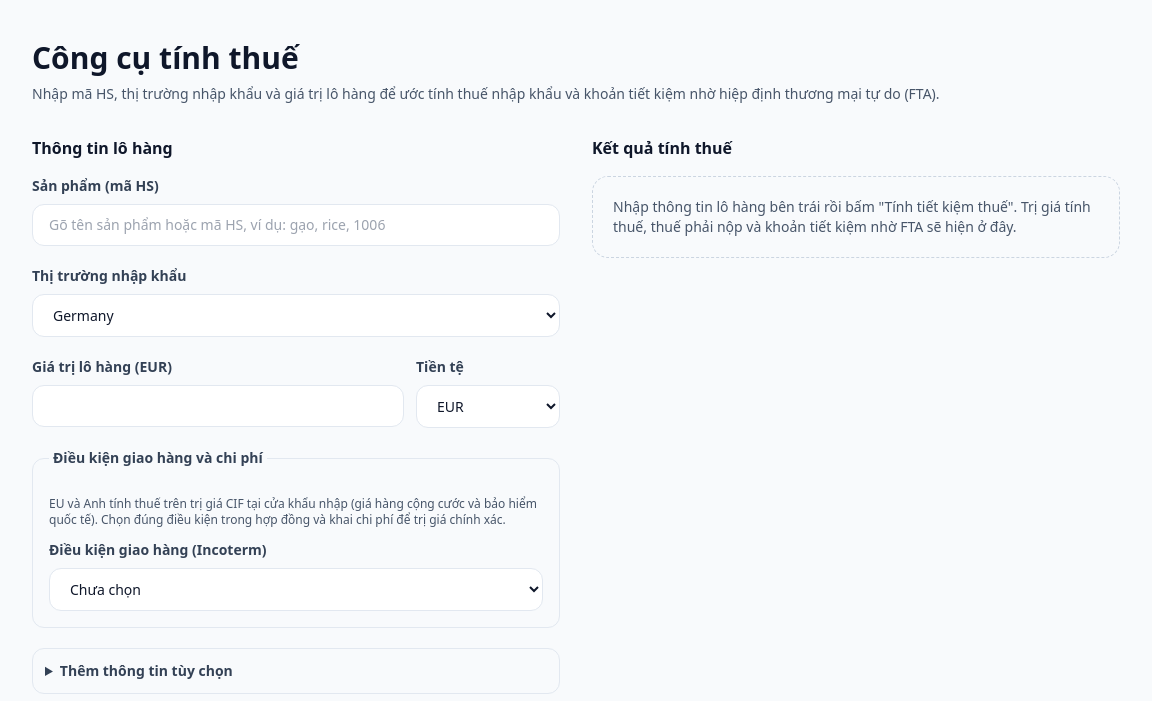
Máy tính tiết kiệm thuế (C2) › không chọn mã HS thì báo lỗi và không gọi server
The width and height of the screenshot is (1152, 701).
Type "10000" into the field labelled "Giá trị lô hàng (EUR)". click: (218, 406)
box: [32, 385, 404, 427]
(page scrolled)
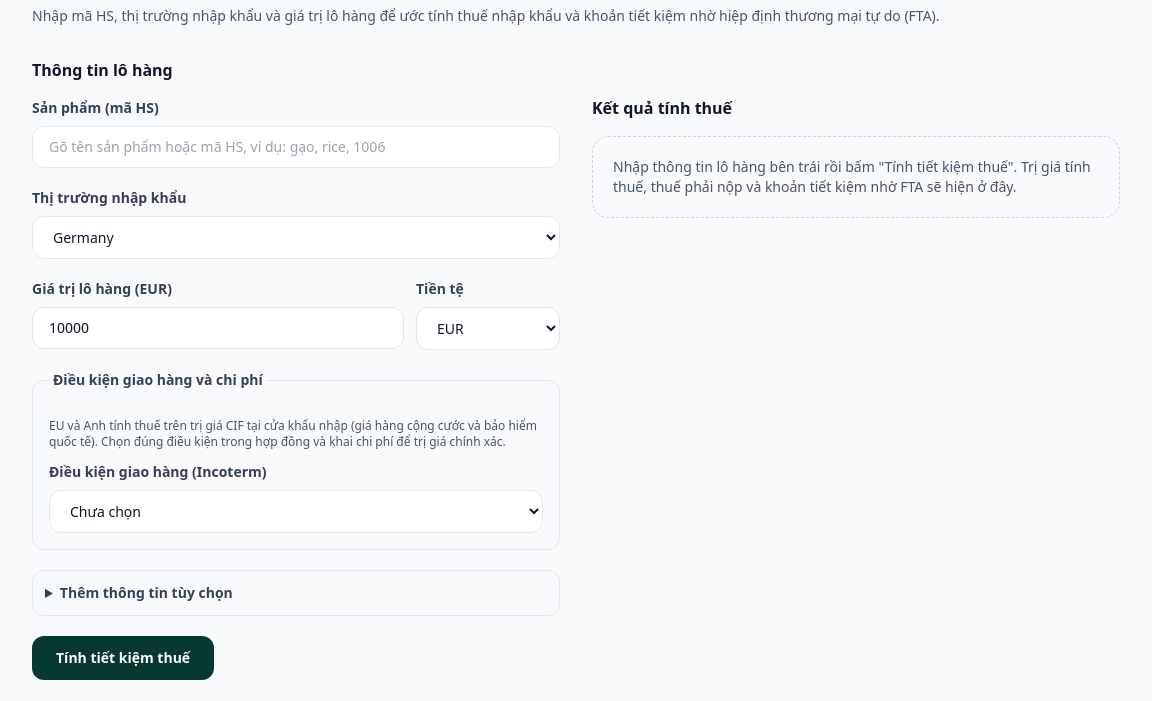
Click the button "Tính tiết kiệm thuế". click: (123, 658)
box: [32, 636, 214, 680]
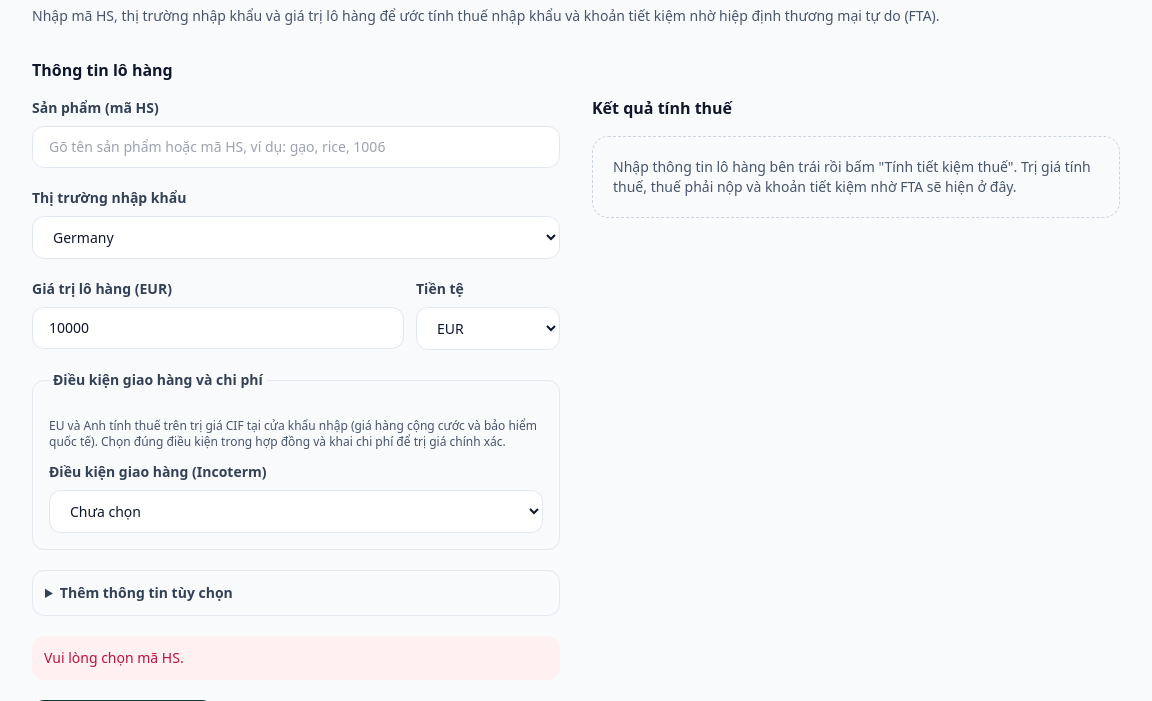
expect the message shows "Vui lòng chọn mã HS": met, box [44, 648, 184, 667]
